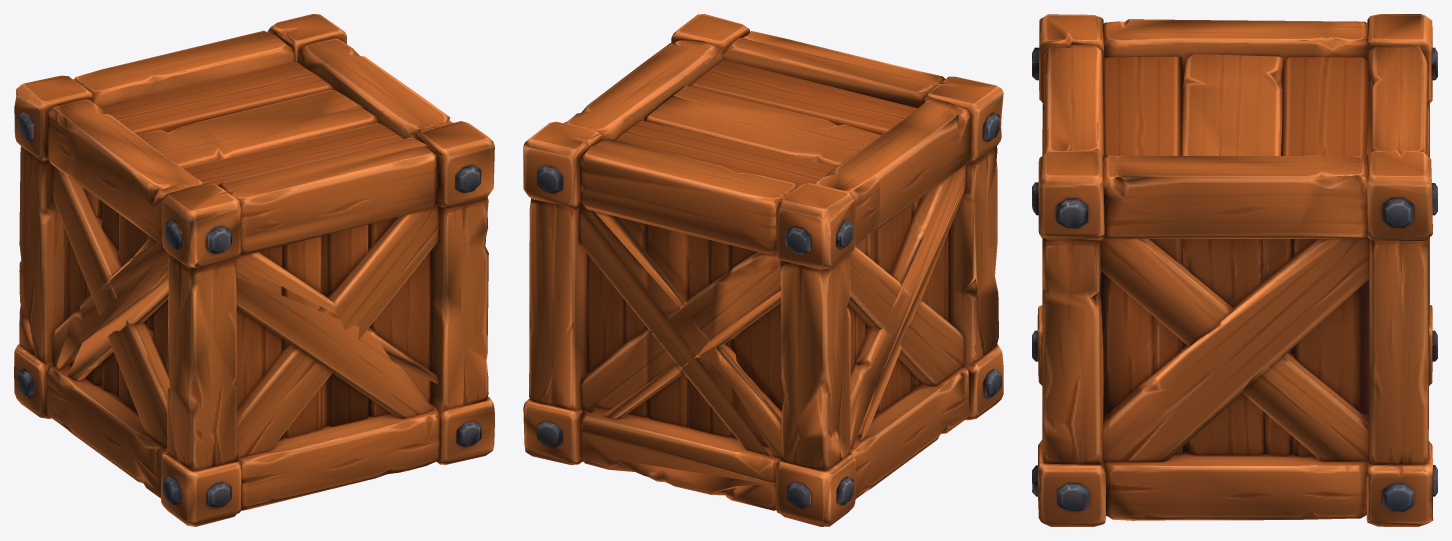
File: Meshy_AI_Wooden_Crate_1005021457_texture.glb
3 renders of one model, left to right at view 1: azimuth 30°, elevation 25°; view 2: azimuth 150°, elevation 25°; view 3: azimuth 270°, elevation 25°, orthographic. The views are drawn at different scales.
Visible parts, largest first — view 1: Mesh_0.002; view 2: Mesh_0.002; view 3: Mesh_0.002.
Part boxes in pixels (left/top/right/bottom): Mesh_0.002: left=14, top=14, right=494, bottom=526; Mesh_0.002: left=523, top=14, right=1003, bottom=526; Mesh_0.002: left=1032, top=14, right=1437, bottom=526.
Bounding box in the file's own units: 0.042 × 0.04 × 0.0417.
1 material, 1 textured.
